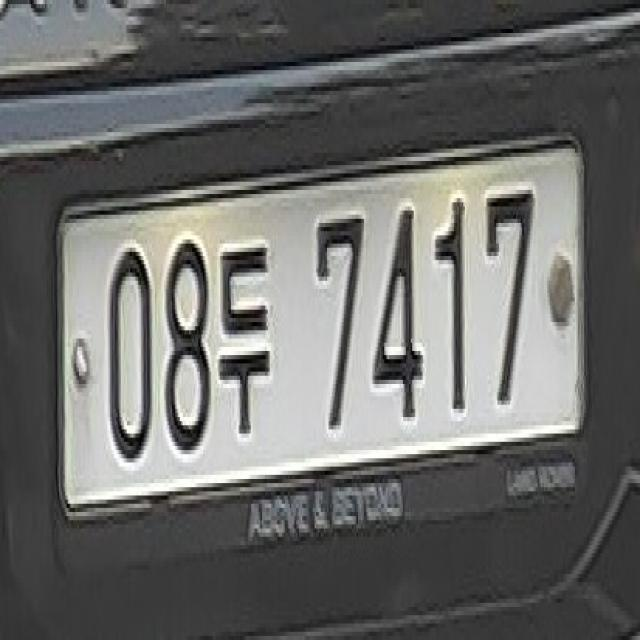0: (104, 232, 155, 480)
1: (434, 185, 477, 428)
4: (370, 190, 430, 438)
7: (483, 166, 544, 415), (306, 206, 367, 452)
8: (162, 220, 212, 467)
du: (216, 232, 276, 462)
license_plate: (52, 93, 606, 557)
